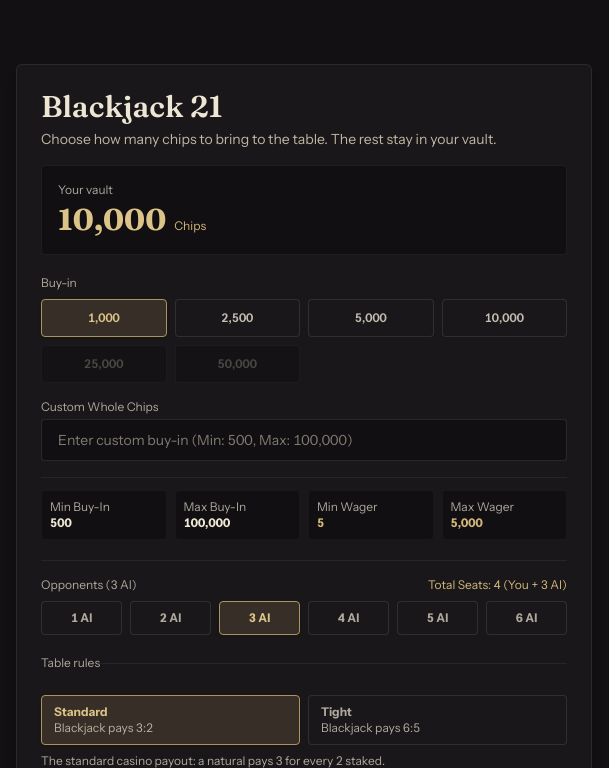
Test: the blackjack table-rules picker › shows only for blackjack, discloses the cost of 6:5 in plain words, and sets the real rule
The width and height of the screenshot is (609, 768).
Expected: the text with test id "rules-note" shows "3 for every 2", [41,753,385,767]
What coordinates should you click on to do the following:
click the button "Tight Blackjack pays 6:5"
I would click on:
 (438, 720)
Its box is [308,695,567,745].
(page scrolled)
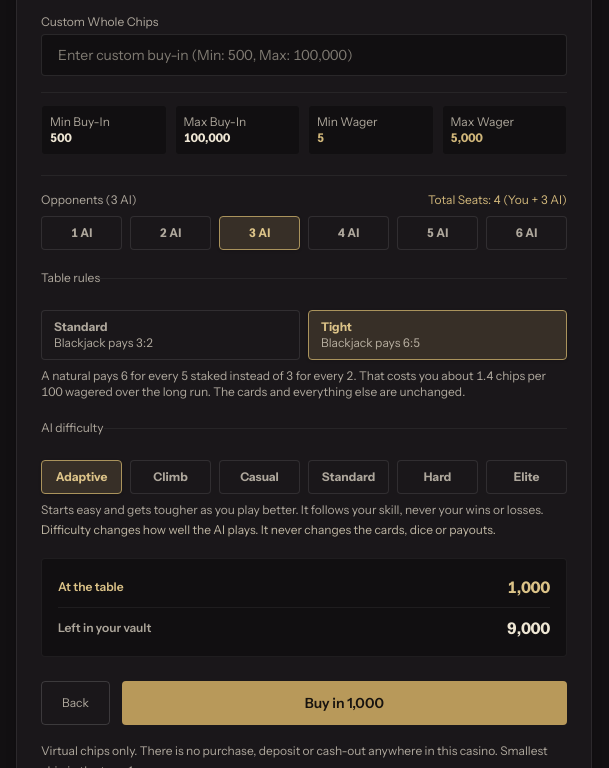
Now the text with test id "rules-note" shows "6 for every 5", box [41,368,546,399]
Now the text with test id "rules-note" shows "costs you about 1.4 chips per 100 wagered", box [41,368,546,399]
